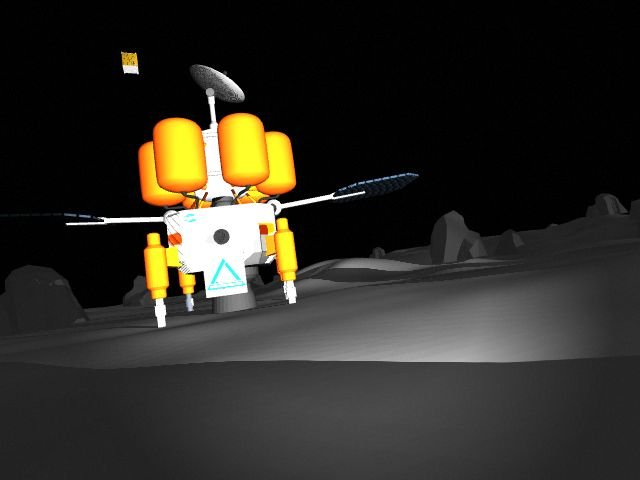basemarker: (206, 257, 246, 290)
